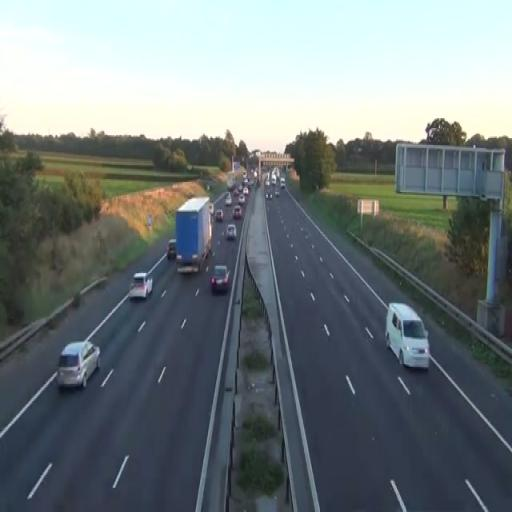Car: (384, 302, 430, 371), (57, 340, 101, 390), (128, 272, 154, 300), (210, 264, 230, 294), (167, 239, 176, 260), (226, 224, 236, 240), (233, 204, 242, 220), (214, 209, 224, 222)
Truck: (175, 196, 214, 275)
